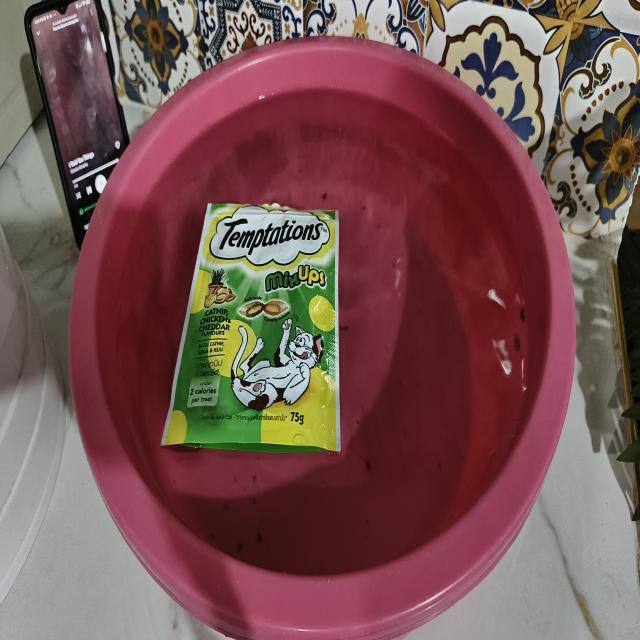Plastic Pouch: (161, 204, 340, 452), (235, 307, 237, 314)
